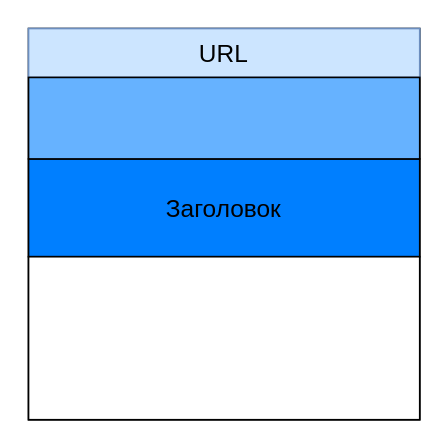
This 448x448 diagram has some shape labels left out. The box of each missing label's shape, as (x1, y1, x2, y2) in pixels:
JSON - тело запроса, при использовании метода POST: (27, 255, 420, 420)
Метод запроса: (27, 76, 420, 159)
